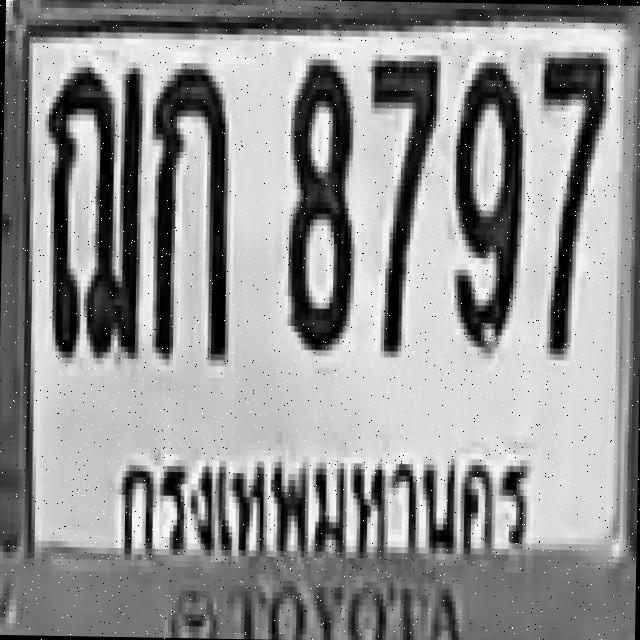0: (449, 55, 520, 348)
10GorGai: (148, 65, 230, 357)
21ChorChoe: (41, 60, 143, 358)
7: (363, 52, 437, 354), (536, 48, 606, 352)
8: (283, 55, 354, 348)
9: (448, 52, 522, 350)
Bangkok: (110, 426, 536, 566)
